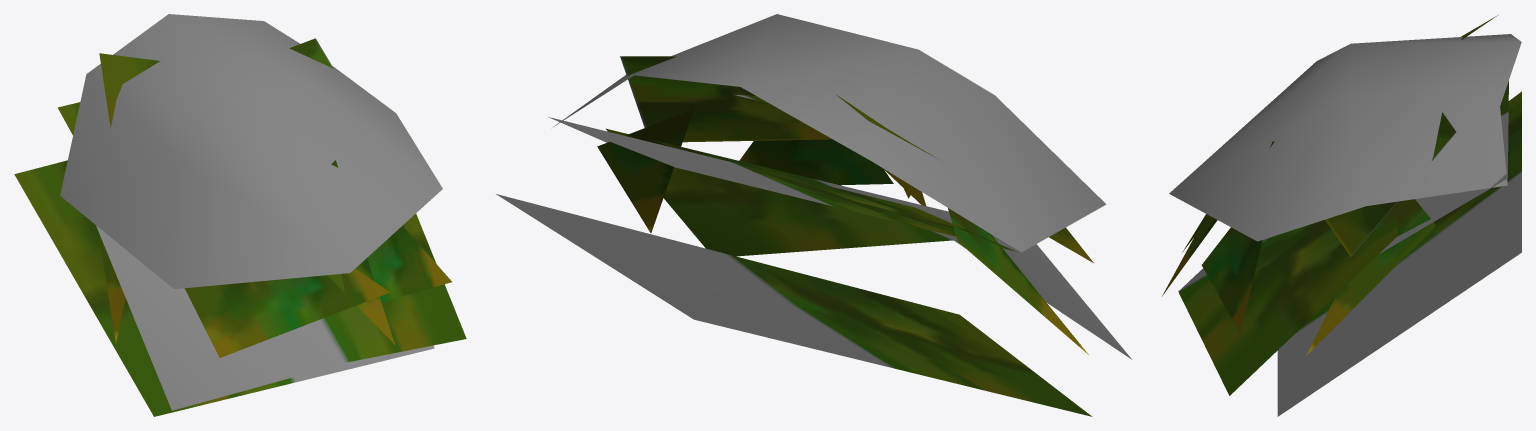
The model's file is fg_bushA_2_s.dae.
3 views of the same model, side by side, from view 1: azimuth 30°, elevation 25°; view 2: azimuth 150°, elevation 25°; view 3: azimuth 270°, elevation 25° (orthographic). The views are drawn at different scales.
Parts seen in each view (by area): view 1: fg_bushA_2_s; view 2: fg_bushA_2_s; view 3: fg_bushA_2_s.
Part boxes in pixels (box(x1,y1,x2,y2)): fg_bushA_2_s: box(14, 14, 466, 416); fg_bushA_2_s: box(496, 14, 1131, 416); fg_bushA_2_s: box(1162, 15, 1521, 416).
Bounding box in the file's own units: 42.31 × 35.32 × 38.65.
1 material, 1 textured.
